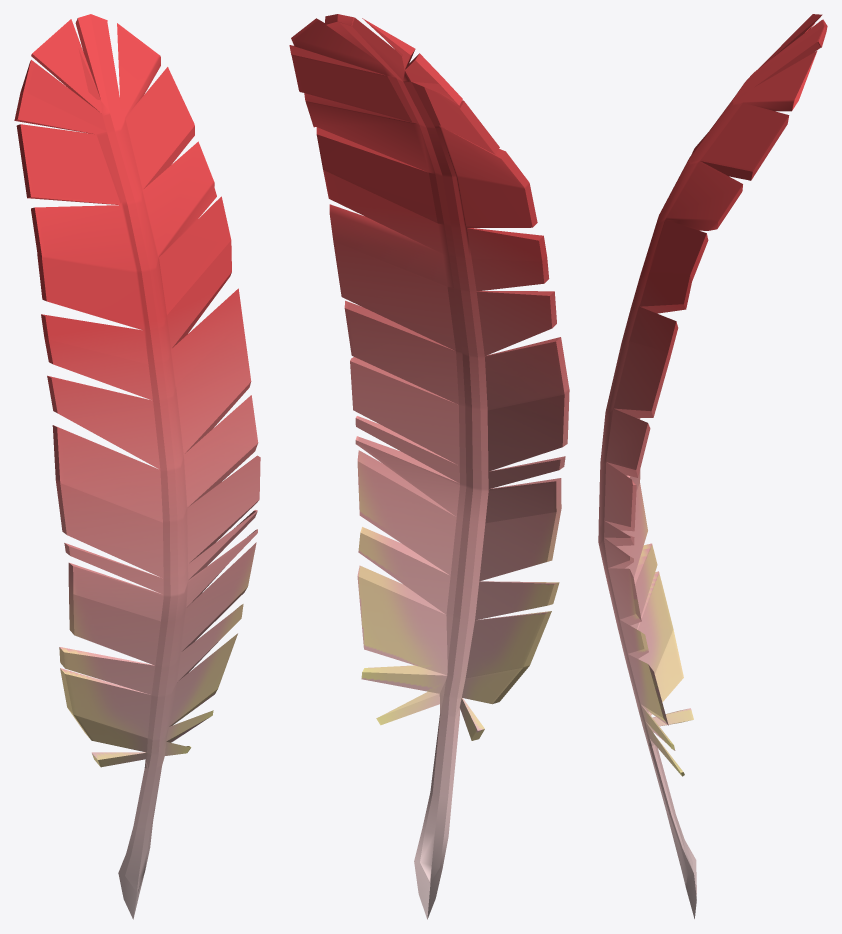
The model's file is feather.fbx.
3 views of the same model, side by side, from view 1: azimuth 30°, elevation 25°; view 2: azimuth 150°, elevation 25°; view 3: azimuth 270°, elevation 25° (orthographic). The views are drawn at different scales.
Visible parts, largest first — view 1: feather; view 2: feather; view 3: feather.
Boxes of the visible parts, box(x1,y1,x2,y2) form: feather: box(14, 14, 260, 919); feather: box(289, 14, 569, 919); feather: box(598, 14, 827, 918).
Bounding box in the file's own units: 15.46 × 63.78 × 14.65.
